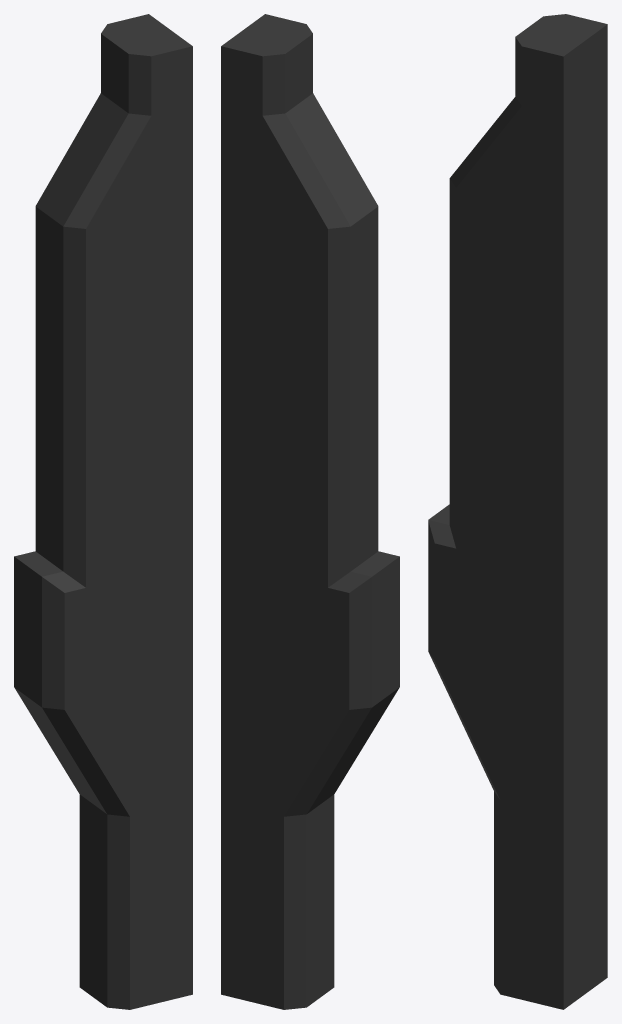
The model's file is SM_Bld_Wall_Exterior_Pillar_01.fbx.
3 views of the same model, side by side, from view 1: azimuth 30°, elevation 25°; view 2: azimuth 150°, elevation 25°; view 3: azimuth 330°, elevation 25° (orthographic).
Visible parts, largest first — view 1: SM_Bld_Wall_Exterior_Pillar_01; view 2: SM_Bld_Wall_Exterior_Pillar_01; view 3: SM_Bld_Wall_Exterior_Pillar_01.
Boxes of the visible parts, bbox=[...] form: SM_Bld_Wall_Exterior_Pillar_01: bbox=[14, 14, 192, 1009]; SM_Bld_Wall_Exterior_Pillar_01: bbox=[221, 14, 399, 1009]; SM_Bld_Wall_Exterior_Pillar_01: bbox=[428, 14, 607, 1009].
Size of the model in its own units: 80.2 by 509 by 42.8.
Materials: 1 (1 with a texture image).
